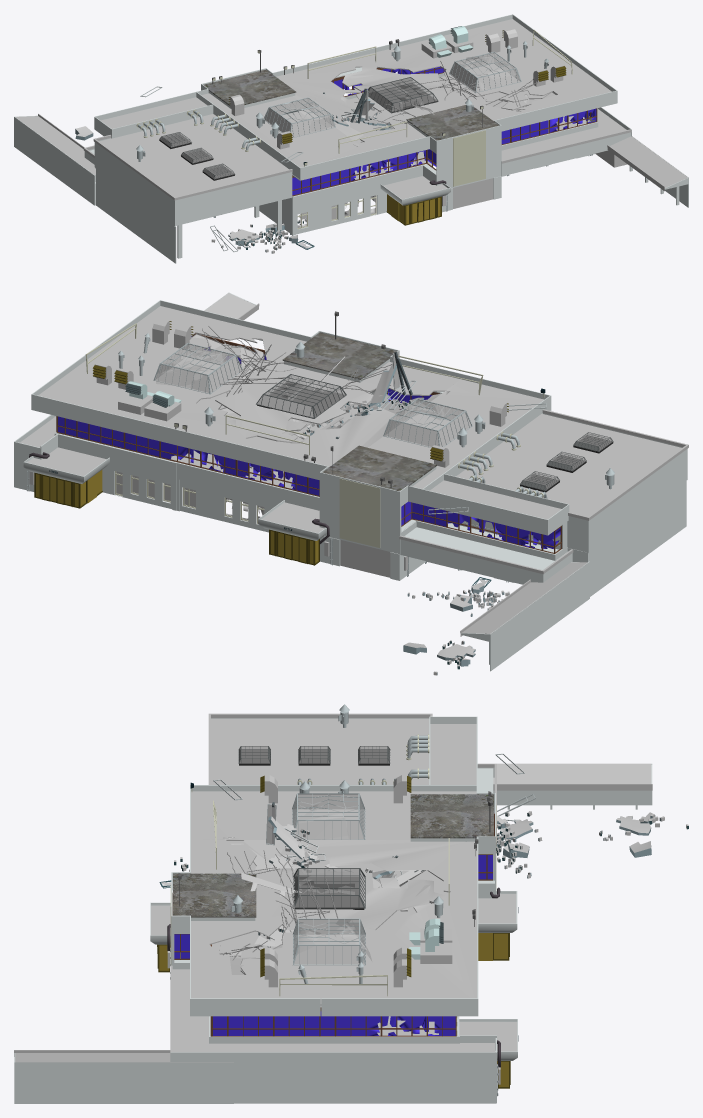
The model's file is building06.FBX.
The picture shows the model from 3 angles, top to bottom: view 1: azimuth 30°, elevation 25°; view 2: azimuth 150°, elevation 25°; view 3: azimuth 270°, elevation 25°; orthographic projection. The views are drawn at different scales.
Parts seen in each view (by area): view 1: Roof05, Wall03, Enter02, Detail06, Roof06, Market, Window06, Detail05, Part01, Box01, FRA12, GlassR02 (+4 smaller); view 2: Roof05, Enter02, Wall03, Detail06, Window06, Market, Detail05, Roof06, Part06, FRA11, Part07, Box01 (+4 smaller); view 3: Roof05, Wall03, Enter02, Detail06, Roof06, Market, Window06, Part06, Part07, Box01, Detail05, GlassR02 (+2 smaller).
Boxes of the visible parts, x1,y1,x2,y2 form: Roof05: [99, 19, 611, 197]; Wall03: [14, 14, 688, 263]; Enter02: [83, 67, 631, 235]; Detail06: [228, 26, 566, 149]; Roof06: [100, 97, 688, 187]; Market: [271, 53, 515, 144]; Window06: [292, 67, 596, 195]; Detail05: [136, 29, 572, 166]; Part01: [210, 152, 314, 253]; Box01: [349, 76, 590, 179]; FRA12: [292, 108, 597, 196]; GlassR02: [159, 132, 235, 180]; Roof05: [38, 306, 681, 516]; Enter02: [14, 331, 588, 584]; Wall03: [14, 292, 688, 671]; Detail06: [93, 318, 508, 467]; Window06: [58, 336, 560, 548]; Market: [156, 350, 463, 468]; Detail05: [85, 311, 614, 498]; Roof06: [203, 293, 561, 519]; Part06: [288, 351, 424, 441]; FRA11: [57, 416, 554, 553]; Part07: [403, 507, 509, 675]; Box01: [61, 381, 369, 488]; Roof05: [191, 718, 477, 1005]; Wall03: [14, 713, 652, 1103]; Enter02: [150, 763, 518, 1103]; Detail06: [260, 775, 452, 987]; Roof06: [15, 724, 476, 1062]; Market: [231, 795, 432, 960]; Window06: [174, 855, 492, 1035]; Part06: [227, 802, 425, 947]; Part07: [495, 753, 688, 878]; Box01: [212, 841, 448, 1035]; Detail05: [178, 704, 493, 996]; GlassR02: [238, 746, 390, 765].
Bounding box in the file's own units: 233 × 54.96 × 223.
